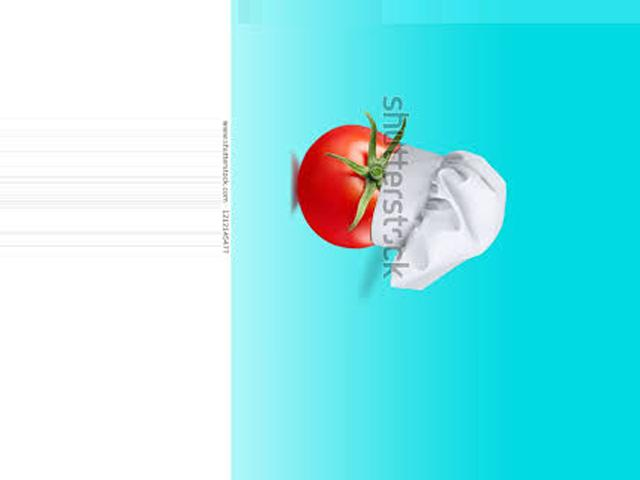tomato: (298, 127, 400, 248)
